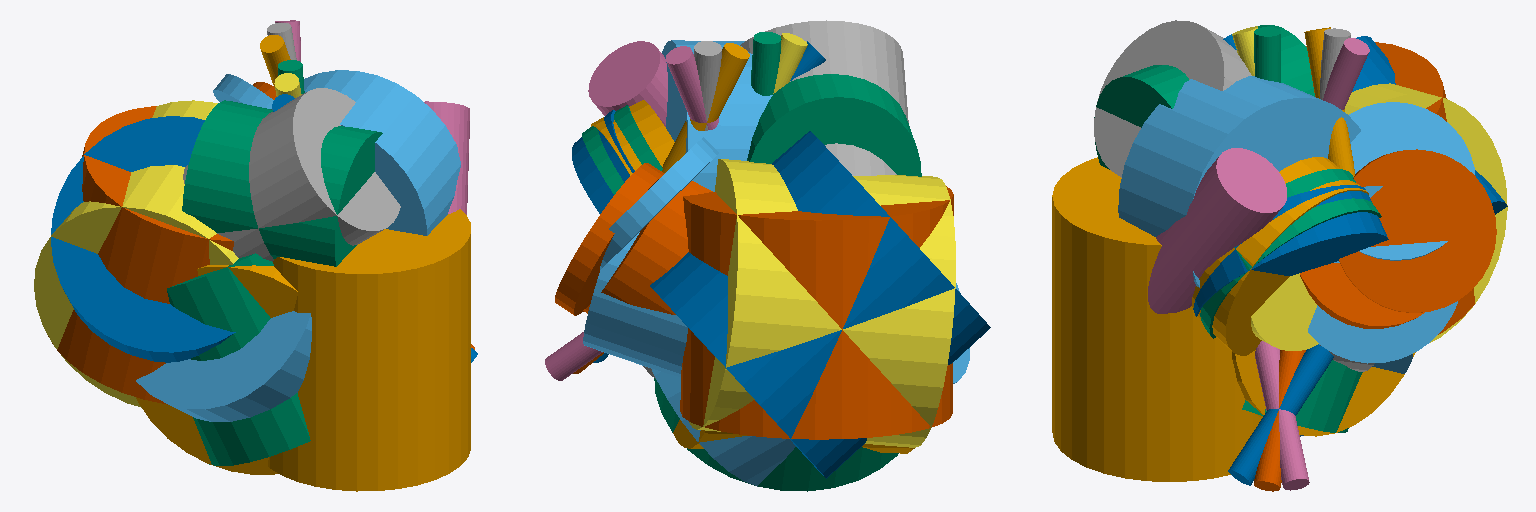
The robot description file, URDF, robot "pepe":
<?xml version="1.0"?><robot name="pepe">
	<link name="0">
		<visual>
			<geometry>
				<cylinder length="1.7739988798225077" radius="0.7985400141020953"/>
			</geometry>
		</visual>
		<collision>
			<geometry>
				<cylinder length="1.7739988798225077" radius="0.7985400141020953"/>
			</geometry>
		</collision>
		<inertial>
			<mass value="3.5538294354461346"/>
			<inertia ixx="0.03" iyy="0.03" izz="0.03" ixy="0" ixz="0" iyx="0"/>
		</inertial>
	</link>
	<link name="11">
		<visual>
			<geometry>
				<cylinder length="0.7744807039099" radius="0.8141551277074157"/>
			</geometry>
		</visual>
		<collision>
			<geometry>
				<cylinder length="0.7744807039099" radius="0.8141551277074157"/>
			</geometry>
		</collision>
		<inertial>
			<mass value="1.6127787759326726"/>
			<inertia ixx="0.03" iyy="0.03" izz="0.03" ixy="0" ixz="0" iyx="0"/>
		</inertial>
	</link>
	<link name="62">
		<visual>
			<geometry>
				<cylinder length="1.2195057669437608" radius="0.5843244796853315"/>
			</geometry>
		</visual>
		<collision>
			<geometry>
				<cylinder length="1.2195057669437608" radius="0.5843244796853315"/>
			</geometry>
		</collision>
		<inertial>
			<mass value="1.308102853803414"/>
			<inertia ixx="0.03" iyy="0.03" izz="0.03" ixy="0" ixz="0" iyx="0"/>
		</inertial>
	</link>
	<link name="83">
		<visual>
			<geometry>
				<cylinder length="1.477297982001211" radius="0.8994262505208477"/>
			</geometry>
		</visual>
		<collision>
			<geometry>
				<cylinder length="1.477297982001211" radius="0.8994262505208477"/>
			</geometry>
		</collision>
		<inertial>
			<mass value="3.7544739434655563"/>
			<inertia ixx="0.03" iyy="0.03" izz="0.03" ixy="0" ixz="0" iyx="0"/>
		</inertial>
	</link>
	<link name="84">
		<visual>
			<geometry>
				<cylinder length="1.477297982001211" radius="0.8994262505208477"/>
			</geometry>
		</visual>
		<collision>
			<geometry>
				<cylinder length="1.477297982001211" radius="0.8994262505208477"/>
			</geometry>
		</collision>
		<inertial>
			<mass value="3.7544739434655563"/>
			<inertia ixx="0.03" iyy="0.03" izz="0.03" ixy="0" ixz="0" iyx="0"/>
		</inertial>
	</link>
	<link name="85">
		<visual>
			<geometry>
				<cylinder length="1.477297982001211" radius="0.8994262505208477"/>
			</geometry>
		</visual>
		<collision>
			<geometry>
				<cylinder length="1.477297982001211" radius="0.8994262505208477"/>
			</geometry>
		</collision>
		<inertial>
			<mass value="3.7544739434655563"/>
			<inertia ixx="0.03" iyy="0.03" izz="0.03" ixy="0" ixz="0" iyx="0"/>
		</inertial>
	</link>
	<link name="96">
		<visual>
			<geometry>
				<cylinder length="0.7917666880333016" radius="0.3516269325088448"/>
			</geometry>
		</visual>
		<collision>
			<geometry>
				<cylinder length="0.7917666880333016" radius="0.3516269325088448"/>
			</geometry>
		</collision>
		<inertial>
			<mass value="0.30754690615283736"/>
			<inertia ixx="0.03" iyy="0.03" izz="0.03" ixy="0" ixz="0" iyx="0"/>
		</inertial>
	</link>
	<link name="67">
		<visual>
			<geometry>
				<cylinder length="1.2195057669437608" radius="0.5843244796853315"/>
			</geometry>
		</visual>
		<collision>
			<geometry>
				<cylinder length="1.2195057669437608" radius="0.5843244796853315"/>
			</geometry>
		</collision>
		<inertial>
			<mass value="1.308102853803414"/>
			<inertia ixx="0.03" iyy="0.03" izz="0.03" ixy="0" ixz="0" iyx="0"/>
		</inertial>
	</link>
	<link name="88">
		<visual>
			<geometry>
				<cylinder length="1.477297982001211" radius="0.8994262505208477"/>
			</geometry>
		</visual>
		<collision>
			<geometry>
				<cylinder length="1.477297982001211" radius="0.8994262505208477"/>
			</geometry>
		</collision>
		<inertial>
			<mass value="3.7544739434655563"/>
			<inertia ixx="0.03" iyy="0.03" izz="0.03" ixy="0" ixz="0" iyx="0"/>
		</inertial>
	</link>
	<link name="89">
		<visual>
			<geometry>
				<cylinder length="1.477297982001211" radius="0.8994262505208477"/>
			</geometry>
		</visual>
		<collision>
			<geometry>
				<cylinder length="1.477297982001211" radius="0.8994262505208477"/>
			</geometry>
		</collision>
		<inertial>
			<mass value="3.7544739434655563"/>
			<inertia ixx="0.03" iyy="0.03" izz="0.03" ixy="0" ixz="0" iyx="0"/>
		</inertial>
	</link>
	<link name="810">
		<visual>
			<geometry>
				<cylinder length="1.477297982001211" radius="0.8994262505208477"/>
			</geometry>
		</visual>
		<collision>
			<geometry>
				<cylinder length="1.477297982001211" radius="0.8994262505208477"/>
			</geometry>
		</collision>
		<inertial>
			<mass value="3.7544739434655563"/>
			<inertia ixx="0.03" iyy="0.03" izz="0.03" ixy="0" ixz="0" iyx="0"/>
		</inertial>
	</link>
	<link name="911">
		<visual>
			<geometry>
				<cylinder length="0.7917666880333016" radius="0.3516269325088448"/>
			</geometry>
		</visual>
		<collision>
			<geometry>
				<cylinder length="0.7917666880333016" radius="0.3516269325088448"/>
			</geometry>
		</collision>
		<inertial>
			<mass value="0.30754690615283736"/>
			<inertia ixx="0.03" iyy="0.03" izz="0.03" ixy="0" ixz="0" iyx="0"/>
		</inertial>
	</link>
	<link name="212">
		<visual>
			<geometry>
				<cylinder length="0.3667554773699513" radius="0.7132824726480099"/>
			</geometry>
		</visual>
		<collision>
			<geometry>
				<cylinder length="0.3667554773699513" radius="0.7132824726480099"/>
			</geometry>
		</collision>
		<inertial>
			<mass value="0.5862050911495434"/>
			<inertia ixx="0.03" iyy="0.03" izz="0.03" ixy="0" ixz="0" iyx="0"/>
		</inertial>
	</link>
	<link name="313">
		<visual>
			<geometry>
				<cylinder length="0.15135455838536704" radius="0.5567579294038779"/>
			</geometry>
		</visual>
		<collision>
			<geometry>
				<cylinder length="0.15135455838536704" radius="0.5567579294038779"/>
			</geometry>
		</collision>
		<inertial>
			<mass value="0.14739345529056827"/>
			<inertia ixx="0.03" iyy="0.03" izz="0.03" ixy="0" ixz="0" iyx="0"/>
		</inertial>
	</link>
	<link name="514">
		<visual>
			<geometry>
				<cylinder length="1.062935664686714" radius="0.09246507050415154"/>
			</geometry>
		</visual>
		<collision>
			<geometry>
				<cylinder length="1.062935664686714" radius="0.09246507050415154"/>
			</geometry>
		</collision>
		<inertial>
			<mass value="0.0285504042695988"/>
			<inertia ixx="0.03" iyy="0.03" izz="0.03" ixy="0" ixz="0" iyx="0"/>
		</inertial>
	</link>
	<link name="515">
		<visual>
			<geometry>
				<cylinder length="1.062935664686714" radius="0.09246507050415154"/>
			</geometry>
		</visual>
		<collision>
			<geometry>
				<cylinder length="1.062935664686714" radius="0.09246507050415154"/>
			</geometry>
		</collision>
		<inertial>
			<mass value="0.0285504042695988"/>
			<inertia ixx="0.03" iyy="0.03" izz="0.03" ixy="0" ixz="0" iyx="0"/>
		</inertial>
	</link>
	<link name="516">
		<visual>
			<geometry>
				<cylinder length="1.062935664686714" radius="0.09246507050415154"/>
			</geometry>
		</visual>
		<collision>
			<geometry>
				<cylinder length="1.062935664686714" radius="0.09246507050415154"/>
			</geometry>
		</collision>
		<inertial>
			<mass value="0.0285504042695988"/>
			<inertia ixx="0.03" iyy="0.03" izz="0.03" ixy="0" ixz="0" iyx="0"/>
		</inertial>
	</link>
	<link name="717">
		<visual>
			<geometry>
				<cylinder length="1.0271395884774897" radius="0.6151144001170081"/>
			</geometry>
		</visual>
		<collision>
			<geometry>
				<cylinder length="1.0271395884774897" radius="0.6151144001170081"/>
			</geometry>
		</collision>
		<inertial>
			<mass value="1.2209310240640017"/>
			<inertia ixx="0.03" iyy="0.03" izz="0.03" ixy="0" ixz="0" iyx="0"/>
		</inertial>
	</link>
	<link name="218">
		<visual>
			<geometry>
				<cylinder length="0.3667554773699513" radius="0.7132824726480099"/>
			</geometry>
		</visual>
		<collision>
			<geometry>
				<cylinder length="0.3667554773699513" radius="0.7132824726480099"/>
			</geometry>
		</collision>
		<inertial>
			<mass value="0.5862050911495434"/>
			<inertia ixx="0.03" iyy="0.03" izz="0.03" ixy="0" ixz="0" iyx="0"/>
		</inertial>
	</link>
	<link name="319">
		<visual>
			<geometry>
				<cylinder length="0.15135455838536704" radius="0.5567579294038779"/>
			</geometry>
		</visual>
		<collision>
			<geometry>
				<cylinder length="0.15135455838536704" radius="0.5567579294038779"/>
			</geometry>
		</collision>
		<inertial>
			<mass value="0.14739345529056827"/>
			<inertia ixx="0.03" iyy="0.03" izz="0.03" ixy="0" ixz="0" iyx="0"/>
		</inertial>
	</link>
	<link name="520">
		<visual>
			<geometry>
				<cylinder length="1.062935664686714" radius="0.09246507050415154"/>
			</geometry>
		</visual>
		<collision>
			<geometry>
				<cylinder length="1.062935664686714" radius="0.09246507050415154"/>
			</geometry>
		</collision>
		<inertial>
			<mass value="0.0285504042695988"/>
			<inertia ixx="0.03" iyy="0.03" izz="0.03" ixy="0" ixz="0" iyx="0"/>
		</inertial>
	</link>
	<link name="521">
		<visual>
			<geometry>
				<cylinder length="1.062935664686714" radius="0.09246507050415154"/>
			</geometry>
		</visual>
		<collision>
			<geometry>
				<cylinder length="1.062935664686714" radius="0.09246507050415154"/>
			</geometry>
		</collision>
		<inertial>
			<mass value="0.0285504042695988"/>
			<inertia ixx="0.03" iyy="0.03" izz="0.03" ixy="0" ixz="0" iyx="0"/>
		</inertial>
	</link>
	<link name="522">
		<visual>
			<geometry>
				<cylinder length="1.062935664686714" radius="0.09246507050415154"/>
			</geometry>
		</visual>
		<collision>
			<geometry>
				<cylinder length="1.062935664686714" radius="0.09246507050415154"/>
			</geometry>
		</collision>
		<inertial>
			<mass value="0.0285504042695988"/>
			<inertia ixx="0.03" iyy="0.03" izz="0.03" ixy="0" ixz="0" iyx="0"/>
		</inertial>
	</link>
	<link name="723">
		<visual>
			<geometry>
				<cylinder length="1.0271395884774897" radius="0.6151144001170081"/>
			</geometry>
		</visual>
		<collision>
			<geometry>
				<cylinder length="1.0271395884774897" radius="0.6151144001170081"/>
			</geometry>
		</collision>
		<inertial>
			<mass value="1.2209310240640017"/>
			<inertia ixx="0.03" iyy="0.03" izz="0.03" ixy="0" ixz="0" iyx="0"/>
		</inertial>
	</link>
	<link name="224">
		<visual>
			<geometry>
				<cylinder length="0.3667554773699513" radius="0.7132824726480099"/>
			</geometry>
		</visual>
		<collision>
			<geometry>
				<cylinder length="0.3667554773699513" radius="0.7132824726480099"/>
			</geometry>
		</collision>
		<inertial>
			<mass value="0.5862050911495434"/>
			<inertia ixx="0.03" iyy="0.03" izz="0.03" ixy="0" ixz="0" iyx="0"/>
		</inertial>
	</link>
	<link name="325">
		<visual>
			<geometry>
				<cylinder length="0.15135455838536704" radius="0.5567579294038779"/>
			</geometry>
		</visual>
		<collision>
			<geometry>
				<cylinder length="0.15135455838536704" radius="0.5567579294038779"/>
			</geometry>
		</collision>
		<inertial>
			<mass value="0.14739345529056827"/>
			<inertia ixx="0.03" iyy="0.03" izz="0.03" ixy="0" ixz="0" iyx="0"/>
		</inertial>
	</link>
	<link name="526">
		<visual>
			<geometry>
				<cylinder length="1.062935664686714" radius="0.09246507050415154"/>
			</geometry>
		</visual>
		<collision>
			<geometry>
				<cylinder length="1.062935664686714" radius="0.09246507050415154"/>
			</geometry>
		</collision>
		<inertial>
			<mass value="0.0285504042695988"/>
			<inertia ixx="0.03" iyy="0.03" izz="0.03" ixy="0" ixz="0" iyx="0"/>
		</inertial>
	</link>
	<link name="527">
		<visual>
			<geometry>
				<cylinder length="1.062935664686714" radius="0.09246507050415154"/>
			</geometry>
		</visual>
		<collision>
			<geometry>
				<cylinder length="1.062935664686714" radius="0.09246507050415154"/>
			</geometry>
		</collision>
		<inertial>
			<mass value="0.0285504042695988"/>
			<inertia ixx="0.03" iyy="0.03" izz="0.03" ixy="0" ixz="0" iyx="0"/>
		</inertial>
	</link>
	<link name="528">
		<visual>
			<geometry>
				<cylinder length="1.062935664686714" radius="0.09246507050415154"/>
			</geometry>
		</visual>
		<collision>
			<geometry>
				<cylinder length="1.062935664686714" radius="0.09246507050415154"/>
			</geometry>
		</collision>
		<inertial>
			<mass value="0.0285504042695988"/>
			<inertia ixx="0.03" iyy="0.03" izz="0.03" ixy="0" ixz="0" iyx="0"/>
		</inertial>
	</link>
	<link name="729">
		<visual>
			<geometry>
				<cylinder length="1.0271395884774897" radius="0.6151144001170081"/>
			</geometry>
		</visual>
		<collision>
			<geometry>
				<cylinder length="1.0271395884774897" radius="0.6151144001170081"/>
			</geometry>
		</collision>
		<inertial>
			<mass value="1.2209310240640017"/>
			<inertia ixx="0.03" iyy="0.03" izz="0.03" ixy="0" ixz="0" iyx="0"/>
		</inertial>
	</link>
	<link name="430">
		<visual>
			<geometry>
				<cylinder length="1.3173367552053936" radius="0.2781327154291773"/>
			</geometry>
		</visual>
		<collision>
			<geometry>
				<cylinder length="1.3173367552053936" radius="0.2781327154291773"/>
			</geometry>
		</collision>
		<inertial>
			<mass value="0.3201480299633264"/>
			<inertia ixx="0.03" iyy="0.03" izz="0.03" ixy="0" ixz="0" iyx="0"/>
		</inertial>
	</link>
	<joint name="11_to_0" type="revolute">
		<parent link="0"/>
		<child link="11"/>
		<axis xyz="0 0 1"/>
		<limit effort="1" upper="-3.1415" lower="3.1415" velocity="1"/>
		<origin rpy="0.4681511945112713 4.624964645454118 0.19156324855408616" xyz="0.14746950566201433 0.5301384900357403 0.9423994826720727"/>
	</joint>
	<joint name="62_to_11" type="revolute">
		<parent link="11"/>
		<child link="62"/>
		<axis xyz="0 0 1"/>
		<limit effort="1" upper="-3.1415" lower="3.1415" velocity="1"/>
		<origin rpy="11.178681961525013 1.5907232094694699 0.1061686708320843" xyz="0.26324353370329945 0.19921117889418072 0.5866822868241984"/>
	</joint>
	<joint name="83_to_62" type="revolute">
		<parent link="62"/>
		<child link="83"/>
		<axis xyz="0 1 0"/>
		<limit effort="1" upper="-3.1415" lower="3.1415" velocity="1"/>
		<origin rpy="1.6860789754406968 4.915656925644653 4.497326922109888" xyz="0.11079159715996789 0.7811241604594384 0.8776340104357473"/>
	</joint>
	<joint name="84_to_62" type="revolute">
		<parent link="62"/>
		<child link="84"/>
		<axis xyz="0 1 0"/>
		<limit effort="1" upper="-3.1415" lower="3.1415" velocity="1"/>
		<origin rpy="2.529118463161045 4.915656925644653 4.497326922109888" xyz="0.11079159715996789 0.7811241604594384 0.8776340104357473"/>
	</joint>
	<joint name="85_to_62" type="revolute">
		<parent link="62"/>
		<child link="85"/>
		<axis xyz="0 1 0"/>
		<limit effort="1" upper="-3.1415" lower="3.1415" velocity="1"/>
		<origin rpy="3.3721579508813937 4.915656925644653 4.497326922109888" xyz="0.11079159715996789 0.7811241604594384 0.8776340104357473"/>
	</joint>
	<joint name="96_to_62" type="revolute">
		<parent link="62"/>
		<child link="96"/>
		<axis xyz="1 0 0"/>
		<limit effort="1" upper="-3.1415" lower="3.1415" velocity="1"/>
		<origin rpy="3.126151989961204 4.419929206016474 3.206512383131148" xyz="0.8271487012515939 0.7805661845035814 0.3803809520428437"/>
	</joint>
	<joint name="67_to_11" type="revolute">
		<parent link="11"/>
		<child link="67"/>
		<axis xyz="0 0 1"/>
		<limit effort="1" upper="-3.1415" lower="3.1415" velocity="1"/>
		<origin rpy="16.76802294228752 1.5907232094694699 0.1061686708320843" xyz="0.26324353370329945 0.19921117889418072 0.5866822868241984"/>
	</joint>
	<joint name="88_to_67" type="revolute">
		<parent link="67"/>
		<child link="88"/>
		<axis xyz="0 1 0"/>
		<limit effort="1" upper="-3.1415" lower="3.1415" velocity="1"/>
		<origin rpy="1.6860789754406968 4.915656925644653 4.497326922109888" xyz="0.11079159715996789 0.7811241604594384 0.8776340104357473"/>
	</joint>
	<joint name="89_to_67" type="revolute">
		<parent link="67"/>
		<child link="89"/>
		<axis xyz="0 1 0"/>
		<limit effort="1" upper="-3.1415" lower="3.1415" velocity="1"/>
		<origin rpy="2.529118463161045 4.915656925644653 4.497326922109888" xyz="0.11079159715996789 0.7811241604594384 0.8776340104357473"/>
	</joint>
	<joint name="810_to_67" type="revolute">
		<parent link="67"/>
		<child link="810"/>
		<axis xyz="0 1 0"/>
		<limit effort="1" upper="-3.1415" lower="3.1415" velocity="1"/>
		<origin rpy="3.3721579508813937 4.915656925644653 4.497326922109888" xyz="0.11079159715996789 0.7811241604594384 0.8776340104357473"/>
	</joint>
	<joint name="911_to_67" type="revolute">
		<parent link="67"/>
		<child link="911"/>
		<axis xyz="1 0 0"/>
		<limit effort="1" upper="-3.1415" lower="3.1415" velocity="1"/>
		<origin rpy="3.126151989961204 4.419929206016474 3.206512383131148" xyz="0.8271487012515939 0.7805661845035814 0.3803809520428437"/>
	</joint>
	<joint name="212_to_0" type="revolute">
		<parent link="0"/>
		<child link="212"/>
		<axis xyz="1 0 0"/>
		<limit effort="1" upper="-3.1415" lower="3.1415" velocity="1"/>
		<origin rpy="8.742664146653675 0.46019172907946254 2.6157278521392917" xyz="0.4727023227129661 0.7675591183503517 0.6540099308298459"/>
	</joint>
	<joint name="313_to_212" type="revolute">
		<parent link="212"/>
		<child link="313"/>
		<axis xyz="0 0 1"/>
		<limit effort="1" upper="-3.1415" lower="3.1415" velocity="1"/>
		<origin rpy="7.364649355579006 2.2235234598634417 0.6688064004407624" xyz="0.4161229379711372 0.793185440008712 0.17269040089457288"/>
	</joint>
	<joint name="514_to_313" type="revolute">
		<parent link="313"/>
		<child link="514"/>
		<axis xyz="1 0 0"/>
		<limit effort="1" upper="-3.1415" lower="3.1415" velocity="1"/>
		<origin rpy="0.760871277013992 2.514882505844882 2.3323542689687864" xyz="0.948928167337869 0.3720124509337511 0.06580154361913582"/>
	</joint>
	<joint name="515_to_313" type="revolute">
		<parent link="313"/>
		<child link="515"/>
		<axis xyz="1 0 0"/>
		<limit effort="1" upper="-3.1415" lower="3.1415" velocity="1"/>
		<origin rpy="1.141306915520988 2.514882505844882 2.3323542689687864" xyz="0.948928167337869 0.3720124509337511 0.06580154361913582"/>
	</joint>
	<joint name="516_to_313" type="revolute">
		<parent link="313"/>
		<child link="516"/>
		<axis xyz="1 0 0"/>
		<limit effort="1" upper="-3.1415" lower="3.1415" velocity="1"/>
		<origin rpy="1.521742554027984 2.514882505844882 2.3323542689687864" xyz="0.948928167337869 0.3720124509337511 0.06580154361913582"/>
	</joint>
	<joint name="717_to_212" type="revolute">
		<parent link="212"/>
		<child link="717"/>
		<axis xyz="0 0 1"/>
		<limit effort="1" upper="-3.1415" lower="3.1415" velocity="1"/>
		<origin rpy="15.698268754640607 1.0468745722751591 2.5188367718042755" xyz="0.6907428028613931 0.20007099305184373 0.08244201060672862"/>
	</joint>
	<joint name="218_to_0" type="revolute">
		<parent link="0"/>
		<child link="218"/>
		<axis xyz="1 0 0"/>
		<limit effort="1" upper="-3.1415" lower="3.1415" velocity="1"/>
		<origin rpy="11.656885528871568 0.46019172907946254 2.6157278521392917" xyz="0.4727023227129661 0.7675591183503517 0.6540099308298459"/>
	</joint>
	<joint name="319_to_218" type="revolute">
		<parent link="218"/>
		<child link="319"/>
		<axis xyz="0 0 1"/>
		<limit effort="1" upper="-3.1415" lower="3.1415" velocity="1"/>
		<origin rpy="7.364649355579006 2.2235234598634417 0.6688064004407624" xyz="0.4161229379711372 0.793185440008712 0.17269040089457288"/>
	</joint>
	<joint name="520_to_319" type="revolute">
		<parent link="319"/>
		<child link="520"/>
		<axis xyz="1 0 0"/>
		<limit effort="1" upper="-3.1415" lower="3.1415" velocity="1"/>
		<origin rpy="0.760871277013992 2.514882505844882 2.3323542689687864" xyz="0.948928167337869 0.3720124509337511 0.06580154361913582"/>
	</joint>
	<joint name="521_to_319" type="revolute">
		<parent link="319"/>
		<child link="521"/>
		<axis xyz="1 0 0"/>
		<limit effort="1" upper="-3.1415" lower="3.1415" velocity="1"/>
		<origin rpy="1.141306915520988 2.514882505844882 2.3323542689687864" xyz="0.948928167337869 0.3720124509337511 0.06580154361913582"/>
	</joint>
	<joint name="522_to_319" type="revolute">
		<parent link="319"/>
		<child link="522"/>
		<axis xyz="1 0 0"/>
		<limit effort="1" upper="-3.1415" lower="3.1415" velocity="1"/>
		<origin rpy="1.521742554027984 2.514882505844882 2.3323542689687864" xyz="0.948928167337869 0.3720124509337511 0.06580154361913582"/>
	</joint>
	<joint name="723_to_218" type="revolute">
		<parent link="218"/>
		<child link="723"/>
		<axis xyz="0 0 1"/>
		<limit effort="1" upper="-3.1415" lower="3.1415" velocity="1"/>
		<origin rpy="15.698268754640607 1.0468745722751591 2.5188367718042755" xyz="0.6907428028613931 0.20007099305184373 0.08244201060672862"/>
	</joint>
	<joint name="224_to_0" type="revolute">
		<parent link="0"/>
		<child link="224"/>
		<axis xyz="1 0 0"/>
		<limit effort="1" upper="-3.1415" lower="3.1415" velocity="1"/>
		<origin rpy="14.57110691108946 0.46019172907946254 2.6157278521392917" xyz="0.4727023227129661 0.7675591183503517 0.6540099308298459"/>
	</joint>
	<joint name="325_to_224" type="revolute">
		<parent link="224"/>
		<child link="325"/>
		<axis xyz="0 0 1"/>
		<limit effort="1" upper="-3.1415" lower="3.1415" velocity="1"/>
		<origin rpy="7.364649355579006 2.2235234598634417 0.6688064004407624" xyz="0.4161229379711372 0.793185440008712 0.17269040089457288"/>
	</joint>
	<joint name="526_to_325" type="revolute">
		<parent link="325"/>
		<child link="526"/>
		<axis xyz="1 0 0"/>
		<limit effort="1" upper="-3.1415" lower="3.1415" velocity="1"/>
		<origin rpy="0.760871277013992 2.514882505844882 2.3323542689687864" xyz="0.948928167337869 0.3720124509337511 0.06580154361913582"/>
	</joint>
	<joint name="527_to_325" type="revolute">
		<parent link="325"/>
		<child link="527"/>
		<axis xyz="1 0 0"/>
		<limit effort="1" upper="-3.1415" lower="3.1415" velocity="1"/>
		<origin rpy="1.141306915520988 2.514882505844882 2.3323542689687864" xyz="0.948928167337869 0.3720124509337511 0.06580154361913582"/>
	</joint>
	<joint name="528_to_325" type="revolute">
		<parent link="325"/>
		<child link="528"/>
		<axis xyz="1 0 0"/>
		<limit effort="1" upper="-3.1415" lower="3.1415" velocity="1"/>
		<origin rpy="1.521742554027984 2.514882505844882 2.3323542689687864" xyz="0.948928167337869 0.3720124509337511 0.06580154361913582"/>
	</joint>
	<joint name="729_to_224" type="revolute">
		<parent link="224"/>
		<child link="729"/>
		<axis xyz="0 0 1"/>
		<limit effort="1" upper="-3.1415" lower="3.1415" velocity="1"/>
		<origin rpy="15.698268754640607 1.0468745722751591 2.5188367718042755" xyz="0.6907428028613931 0.20007099305184373 0.08244201060672862"/>
	</joint>
	<joint name="430_to_0" type="revolute">
		<parent link="0"/>
		<child link="430"/>
		<axis xyz="0 1 0"/>
		<limit effort="1" upper="-3.1415" lower="3.1415" velocity="1"/>
		<origin rpy="5.674661587515015 2.987626782373507 2.7817619196761543" xyz="0.7031077138832222 0.2356354119960138 0.8962994526601291"/>
	</joint>
</robot>

--- What the picture shows (computed from the rendered views, not written in the file) ---
Views: 3 orthographic renders of the robot side by side, from view 1: azimuth 30°, elevation 25°; view 2: azimuth 150°, elevation 25°; view 3: azimuth 270°, elevation 25°.
Model pepe with 31 links and 30 joints (30 revolute), rooted at 0, posed all joints at 0.
Visible links, largest first — view 1: 0, 84, 62, 85, 67, 11, 89, 810, 83, 88, 430, 325 (+1 smaller); view 2: 83, 85, 84, 62, 67, 717, 729, 11, 430, 313, 89, 810 (+11 smaller); view 3: 0, 11, 313, 430, 67, 212, 224, 325, 62, 717, 83, 729 (+14 smaller).
Boxes of the visible links, x1,y1,x2,y2 form: 0: (268, 209, 470, 491); 84: (51, 116, 235, 362); 62: (182, 100, 382, 266); 85: (48, 106, 233, 404); 67: (183, 88, 400, 261); 11: (271, 70, 460, 235); 89: (136, 311, 311, 421); 810: (167, 253, 310, 465); 83: (34, 100, 238, 407); 88: (136, 265, 297, 474); 430: (424, 101, 469, 214); 325: (213, 74, 273, 108); 83: (689, 159, 955, 447); 85: (680, 186, 953, 439); 84: (650, 131, 990, 478); 62: (747, 74, 921, 176); 67: (740, 20, 908, 175); 717: (583, 232, 687, 376); 729: (583, 181, 712, 314); 11: (662, 40, 772, 191); 430: (588, 41, 667, 126); 313: (555, 163, 664, 315); 89: (651, 283, 969, 486); 810: (654, 378, 898, 491); 0: (1052, 157, 1260, 481); 11: (1118, 76, 1360, 287); 313: (1339, 149, 1496, 312); 430: (1148, 148, 1286, 313); 67: (1094, 20, 1251, 177); 212: (1193, 185, 1388, 316); 224: (1192, 157, 1368, 355); 325: (1349, 102, 1474, 260); 62: (1094, 25, 1314, 169); 717: (1308, 186, 1457, 363); 83: (1345, 83, 1507, 342); 729: (1300, 263, 1424, 328).
Size in the robot's own frame: 3.37 by 3.1 by 3.25 metres.
Geometry: primitives only (box / cylinder / sphere), no mesh files.
